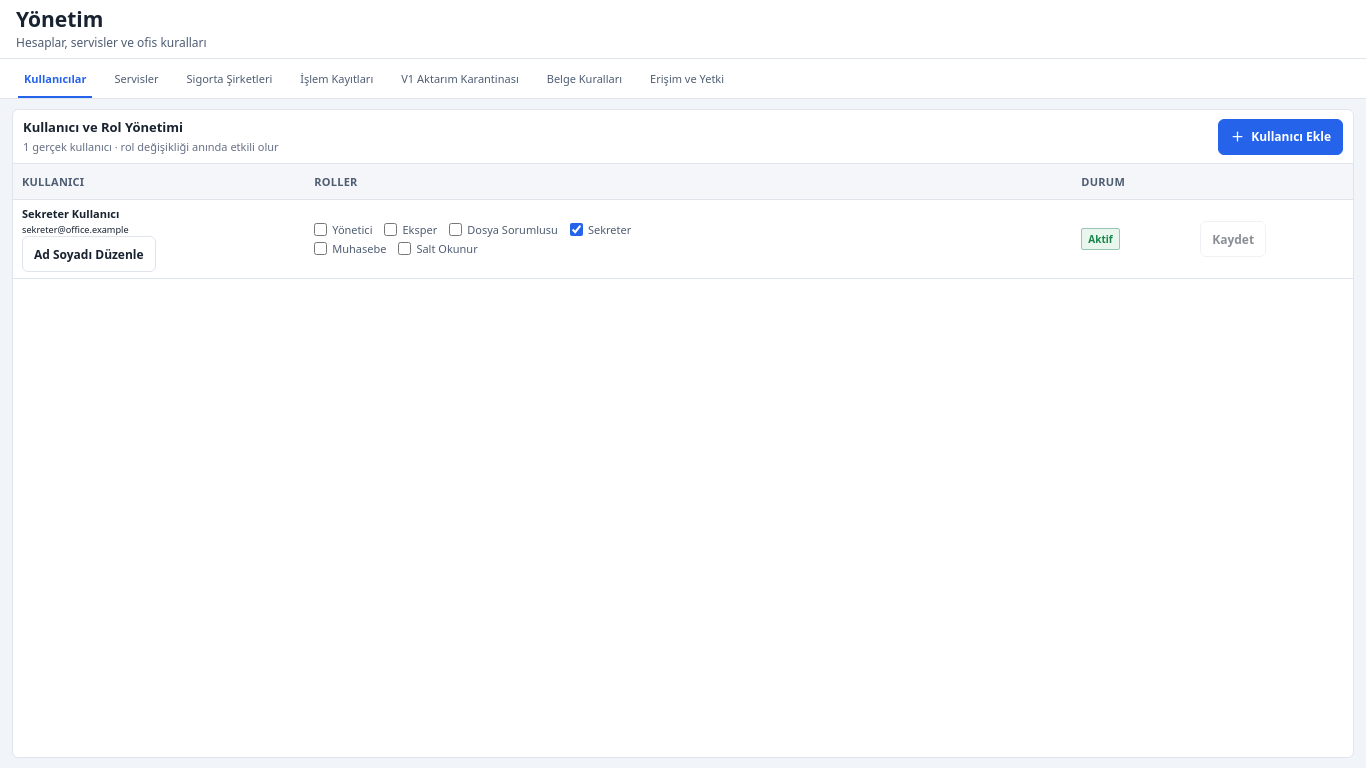
Test: ManagementPage — HB-011 gerçek rol ataması (yalnız admin) › keeps the new-user draft and shows an actionable duplicate email error
The width and height of the screenshot is (1366, 768).
Click the button "Kullanıcı Ekle".
click(1281, 136)  # box [1218,118,1343,154]
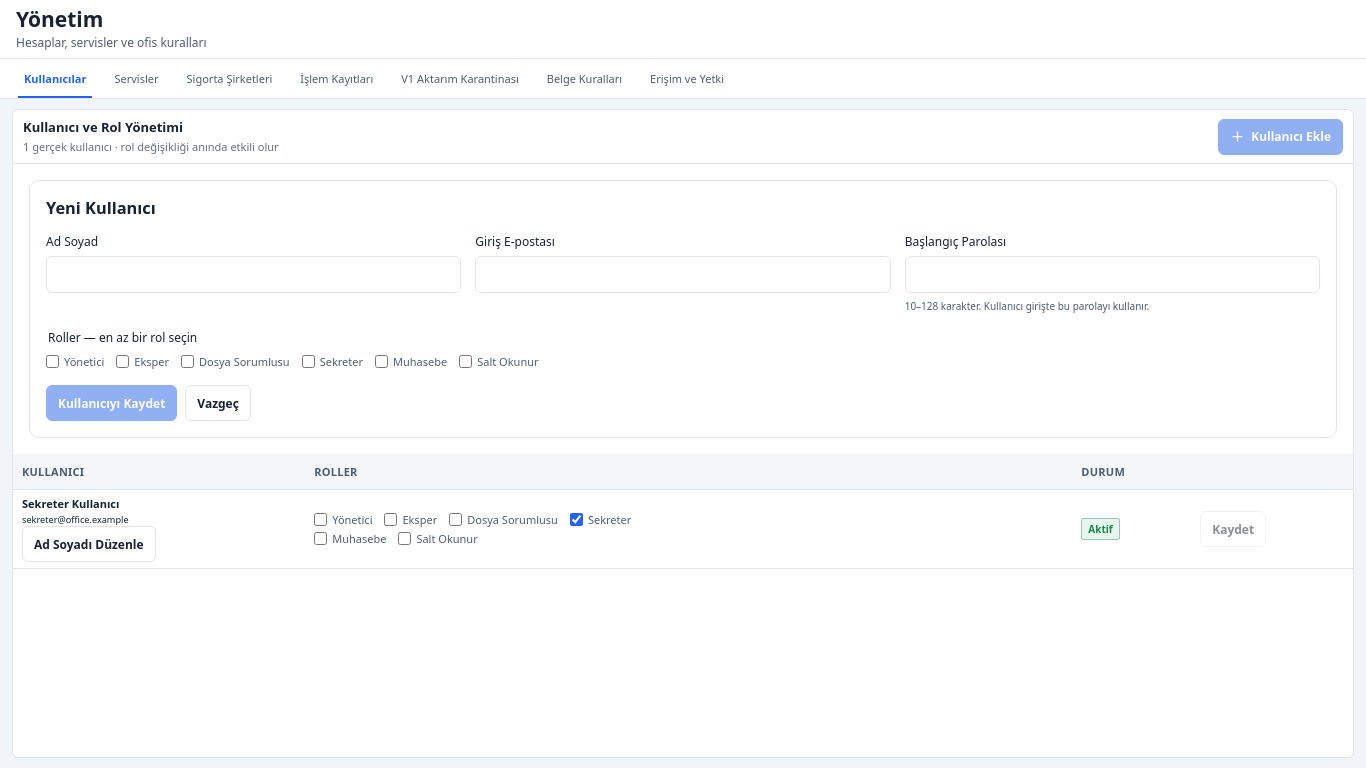
Type "Yeni Eksper" into the field labelled "Ad Soyad".
click(254, 274); type("Yeni Eksper")  # box [46,256,461,293]
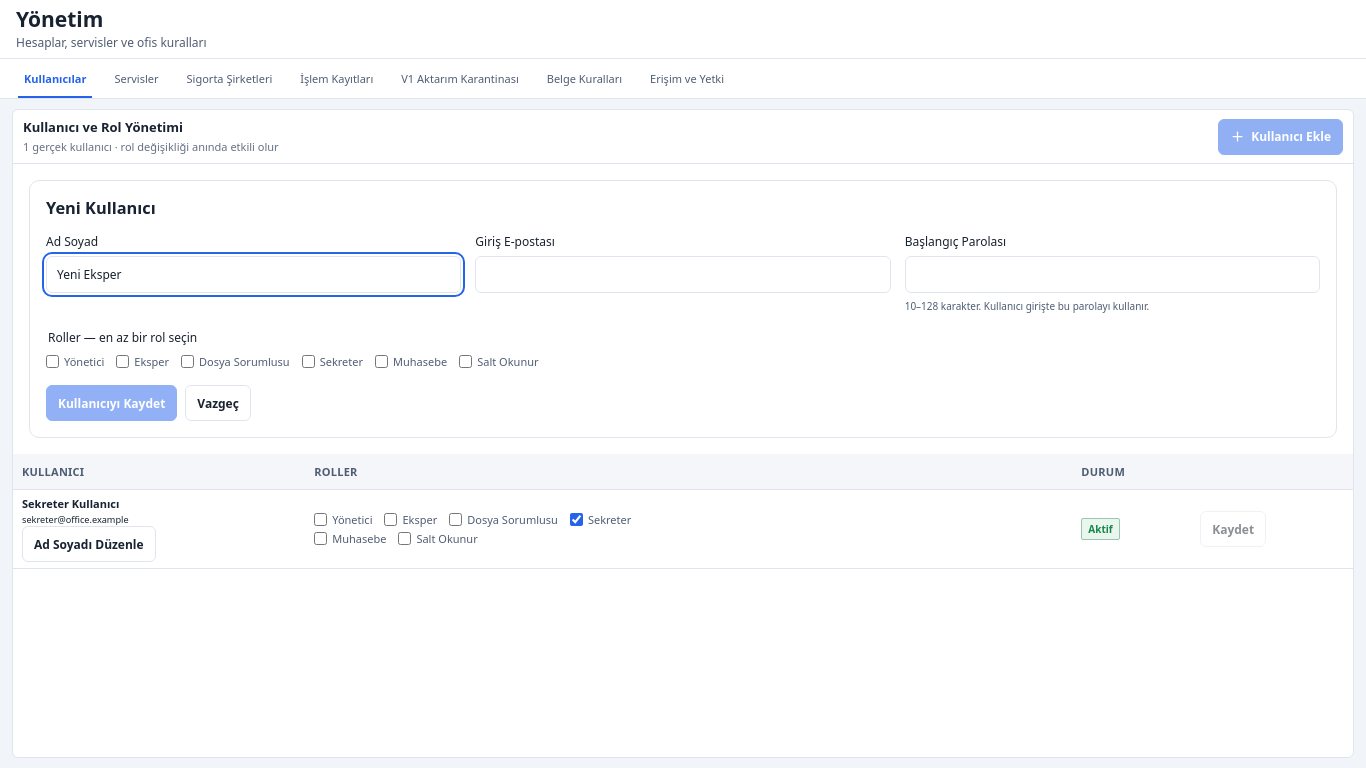
Type "existing@example.test" into the field labelled "Giriş E-postası".
click(683, 274); type("existing@example.test")  # box [475,256,891,293]
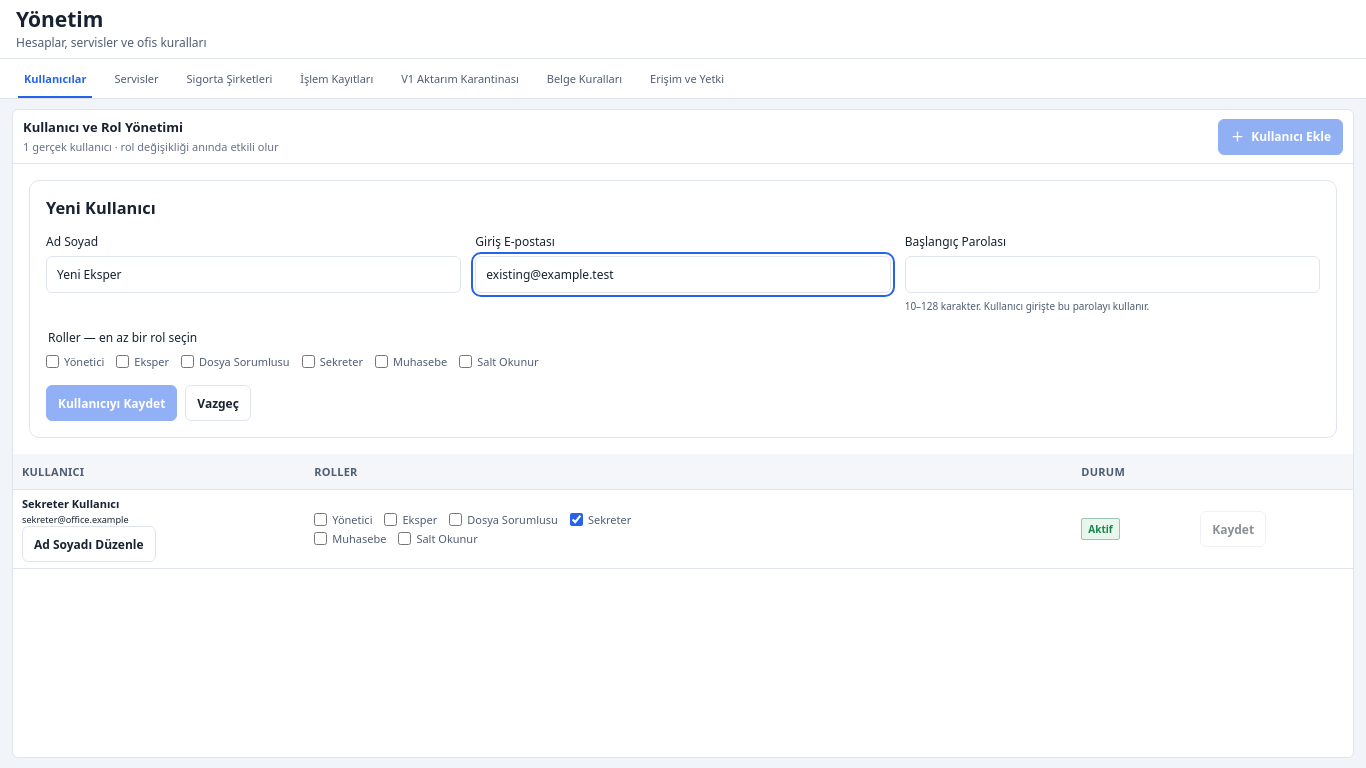
Type "sentetik-parola-25" into the password field labelled "Başlangıç Parolası".
click(1112, 274); type("sentetik-parola-25")  # box [905,256,1320,293]
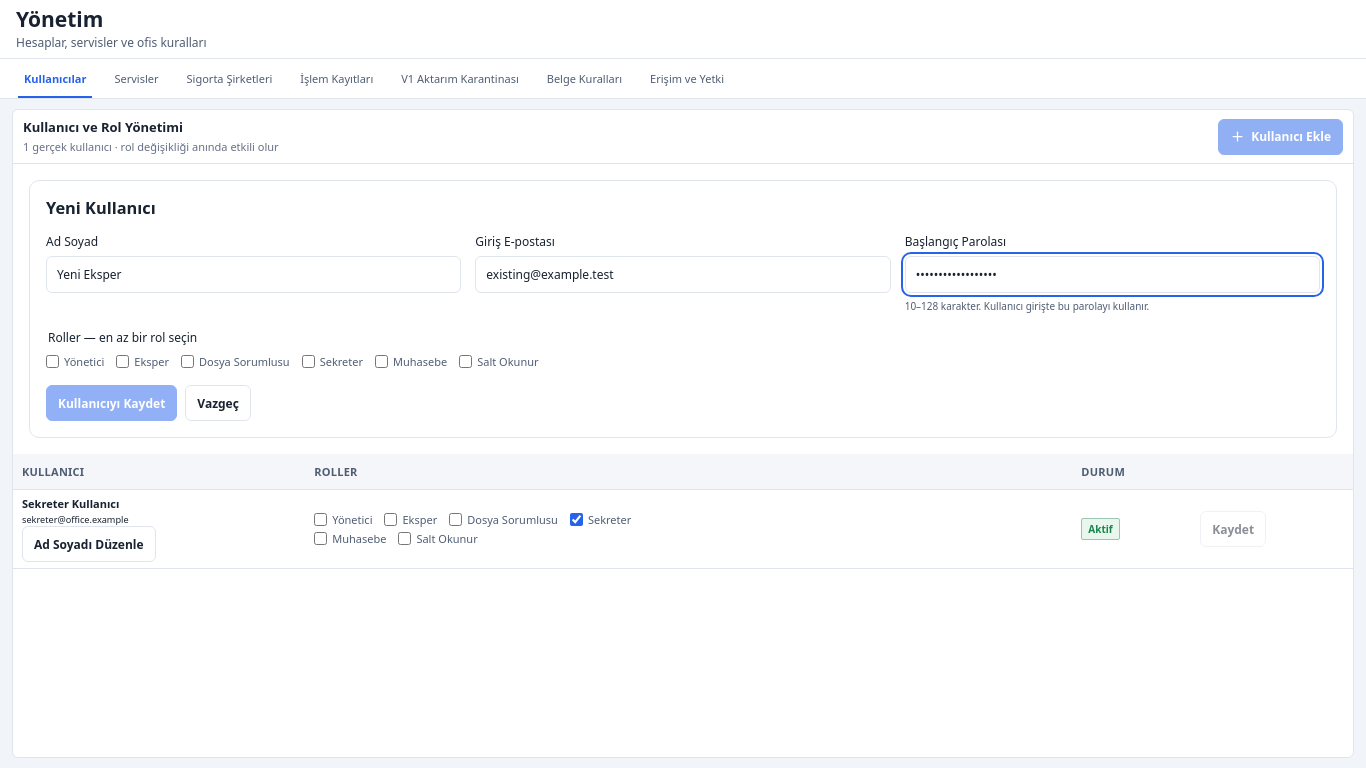
Click the checkbox labelled "Eksper" below "Roller — en az bir rol seçin".
click(123, 362)  # box [116,355,129,368]
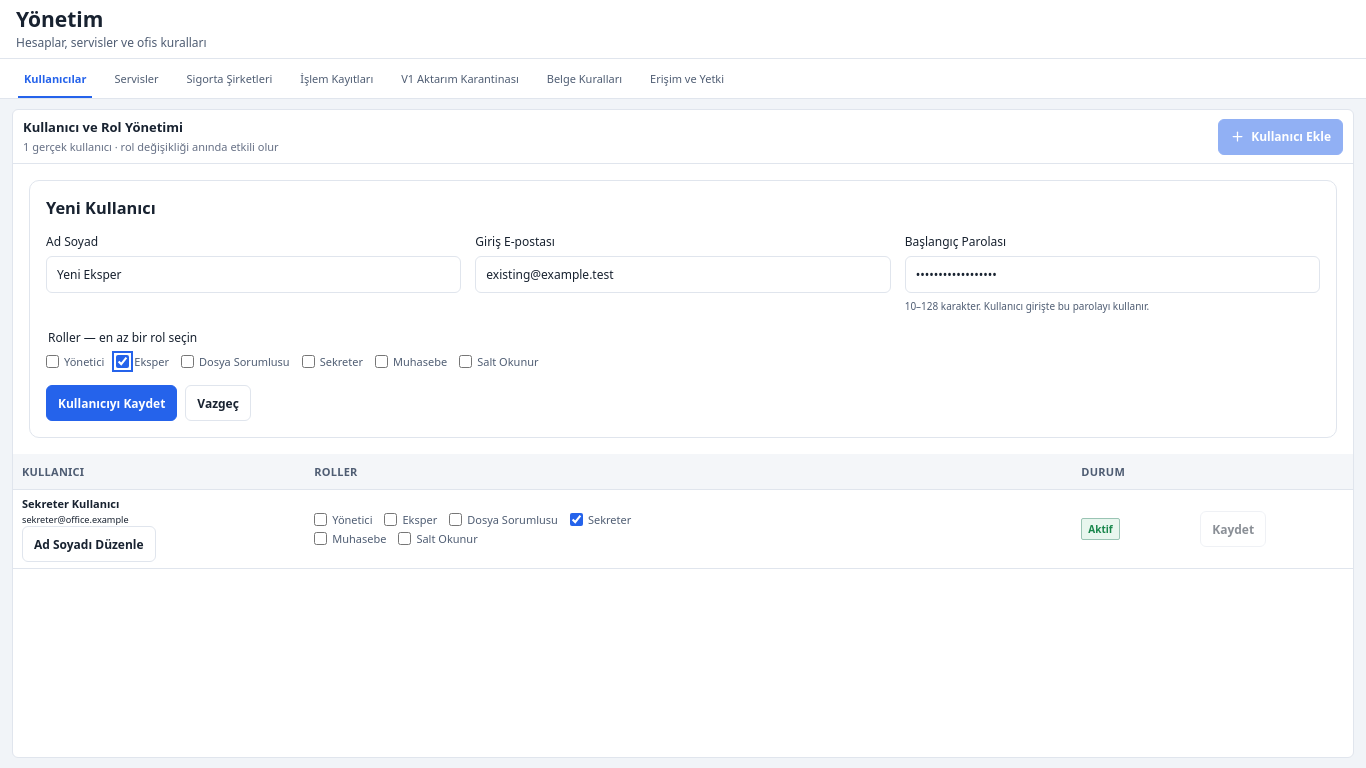
Click the button "Kullanıcıyı Kaydet".
click(112, 403)  # box [46,385,177,421]
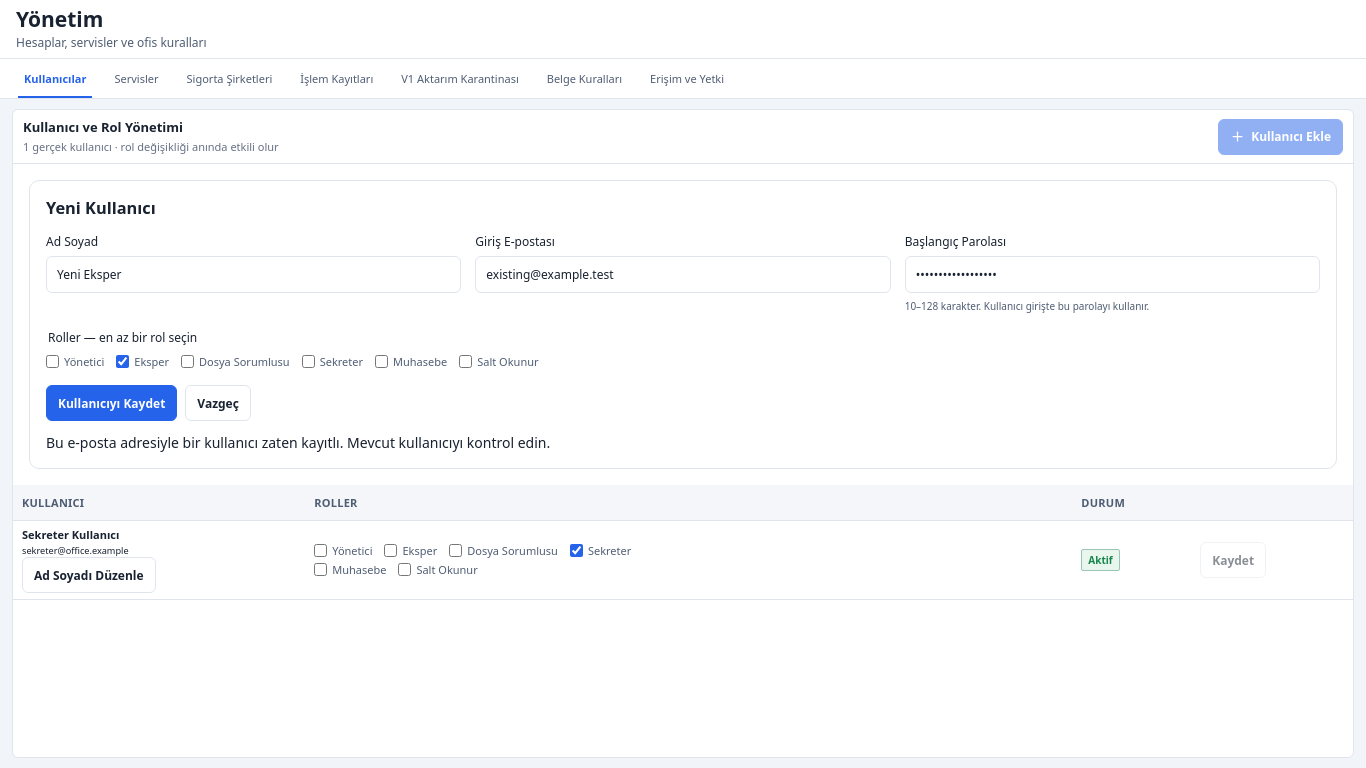
Now the message shows "Bu e-posta adresiyle bir kullanıcı zaten kayıtlı", box [46,433,550,452]
